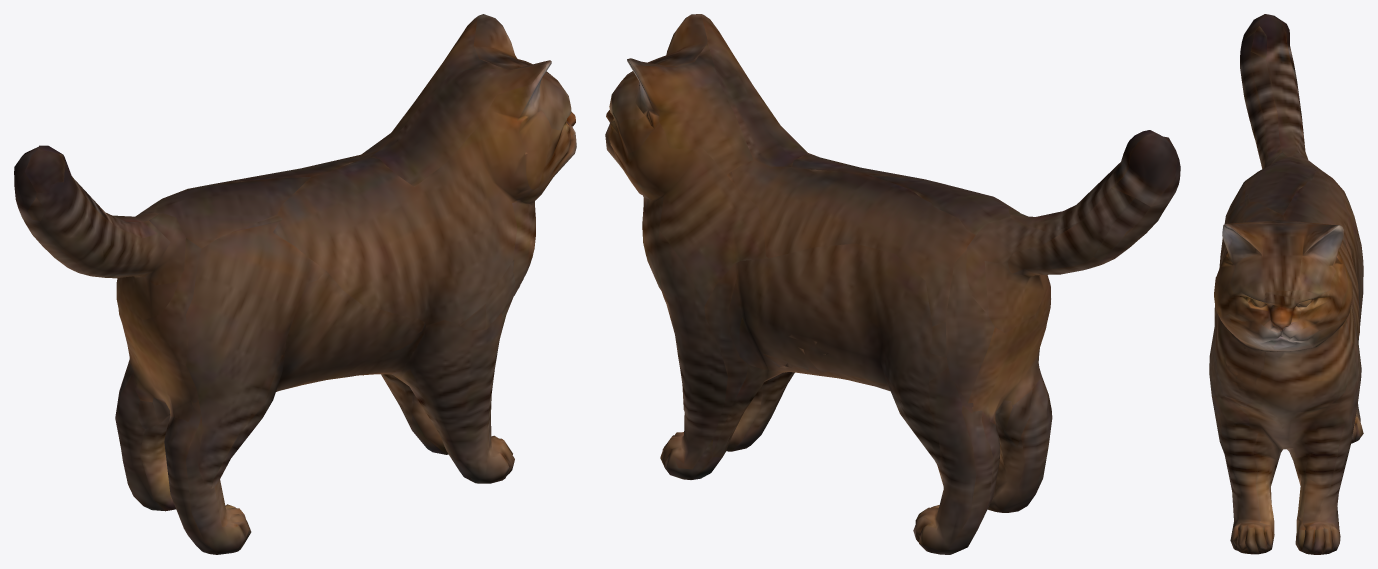
Rendered from TSUSAN-lo.glb.
3 renders of one model, left to right at view 1: azimuth 30°, elevation 25°; view 2: azimuth 150°, elevation 25°; view 3: azimuth 270°, elevation 25°, orthographic. The views are drawn at different scales.
Visible parts, largest first — view 1: material; view 2: material; view 3: material.
Part boxes in pixels (x1,y1,x2,y2): material: (14, 14, 576, 554); material: (605, 14, 1180, 554); material: (1209, 14, 1363, 554).
Size of the model in its own units: 1.38 by 0.9987 by 0.3926.
1 material, 1 textured.
